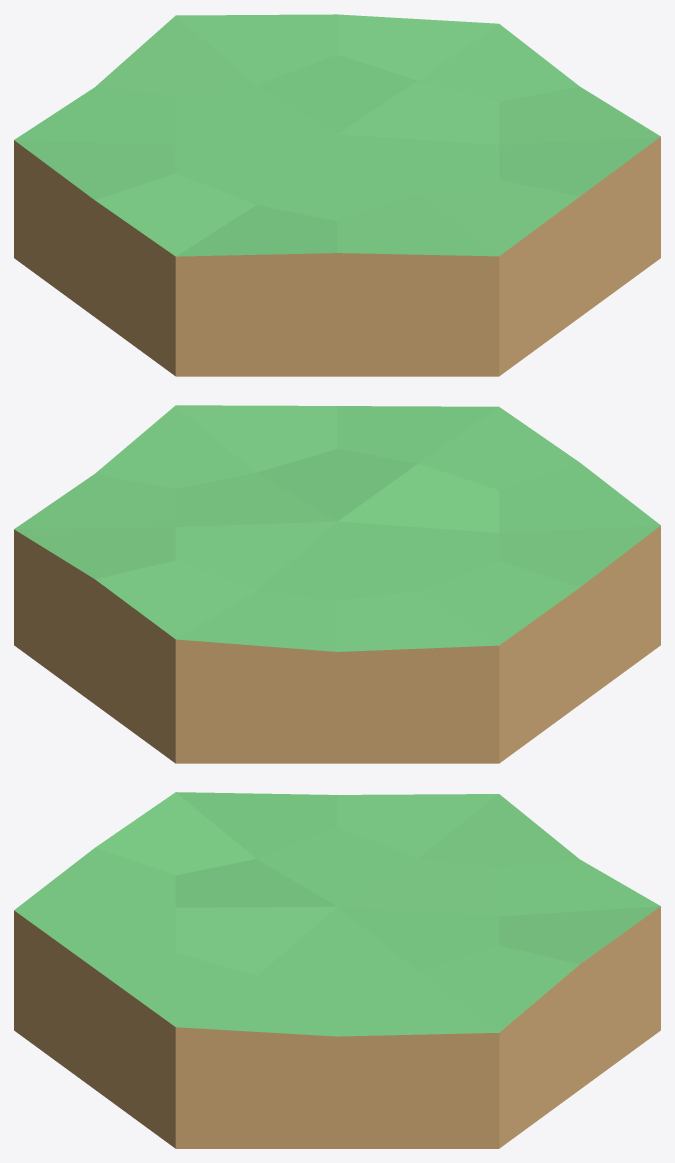
Rendered from terrain_hex_tile.glb.
3 renders of one model, top to bottom at view 1: azimuth 30°, elevation 25°; view 2: azimuth 150°, elevation 25°; view 3: azimuth 270°, elevation 25°, orthographic.
Visible parts, largest first — view 1: Terrain_Hex; view 2: Terrain_Hex; view 3: Terrain_Hex.
Part boxes in pixels (bbox=[...]): Terrain_Hex: bbox=[14, 14, 660, 376]; Terrain_Hex: bbox=[14, 405, 660, 763]; Terrain_Hex: bbox=[14, 792, 660, 1148].
Bounding box in the file's own units: 3.46 × 0.8545 × 4.
